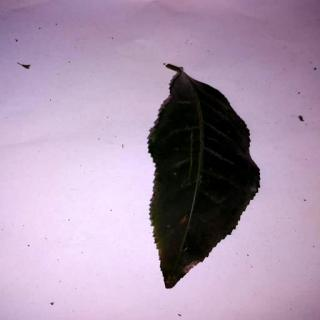Anthracnose: (148, 63, 263, 292)
